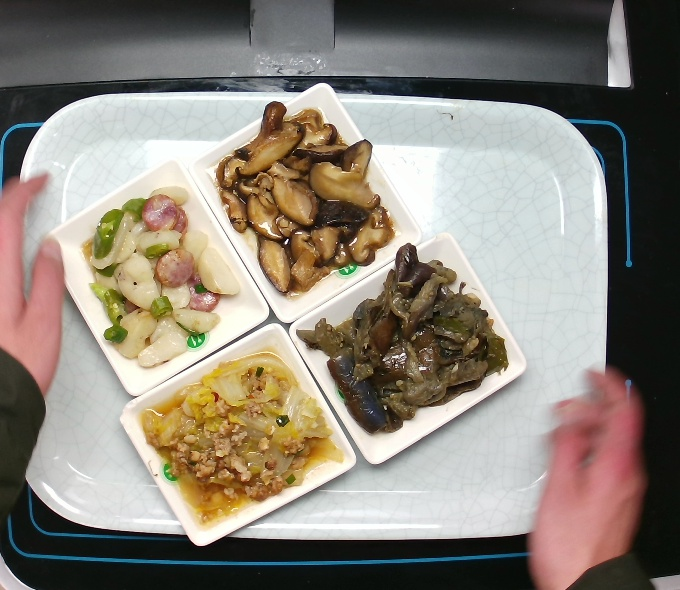wcq-MaTiGuo: (78, 184, 243, 369)
wcq-MoGu: (214, 98, 399, 297)
wcq-QieZi: (294, 241, 512, 438)
wcq-RouMoBaiCai: (135, 349, 346, 527)
